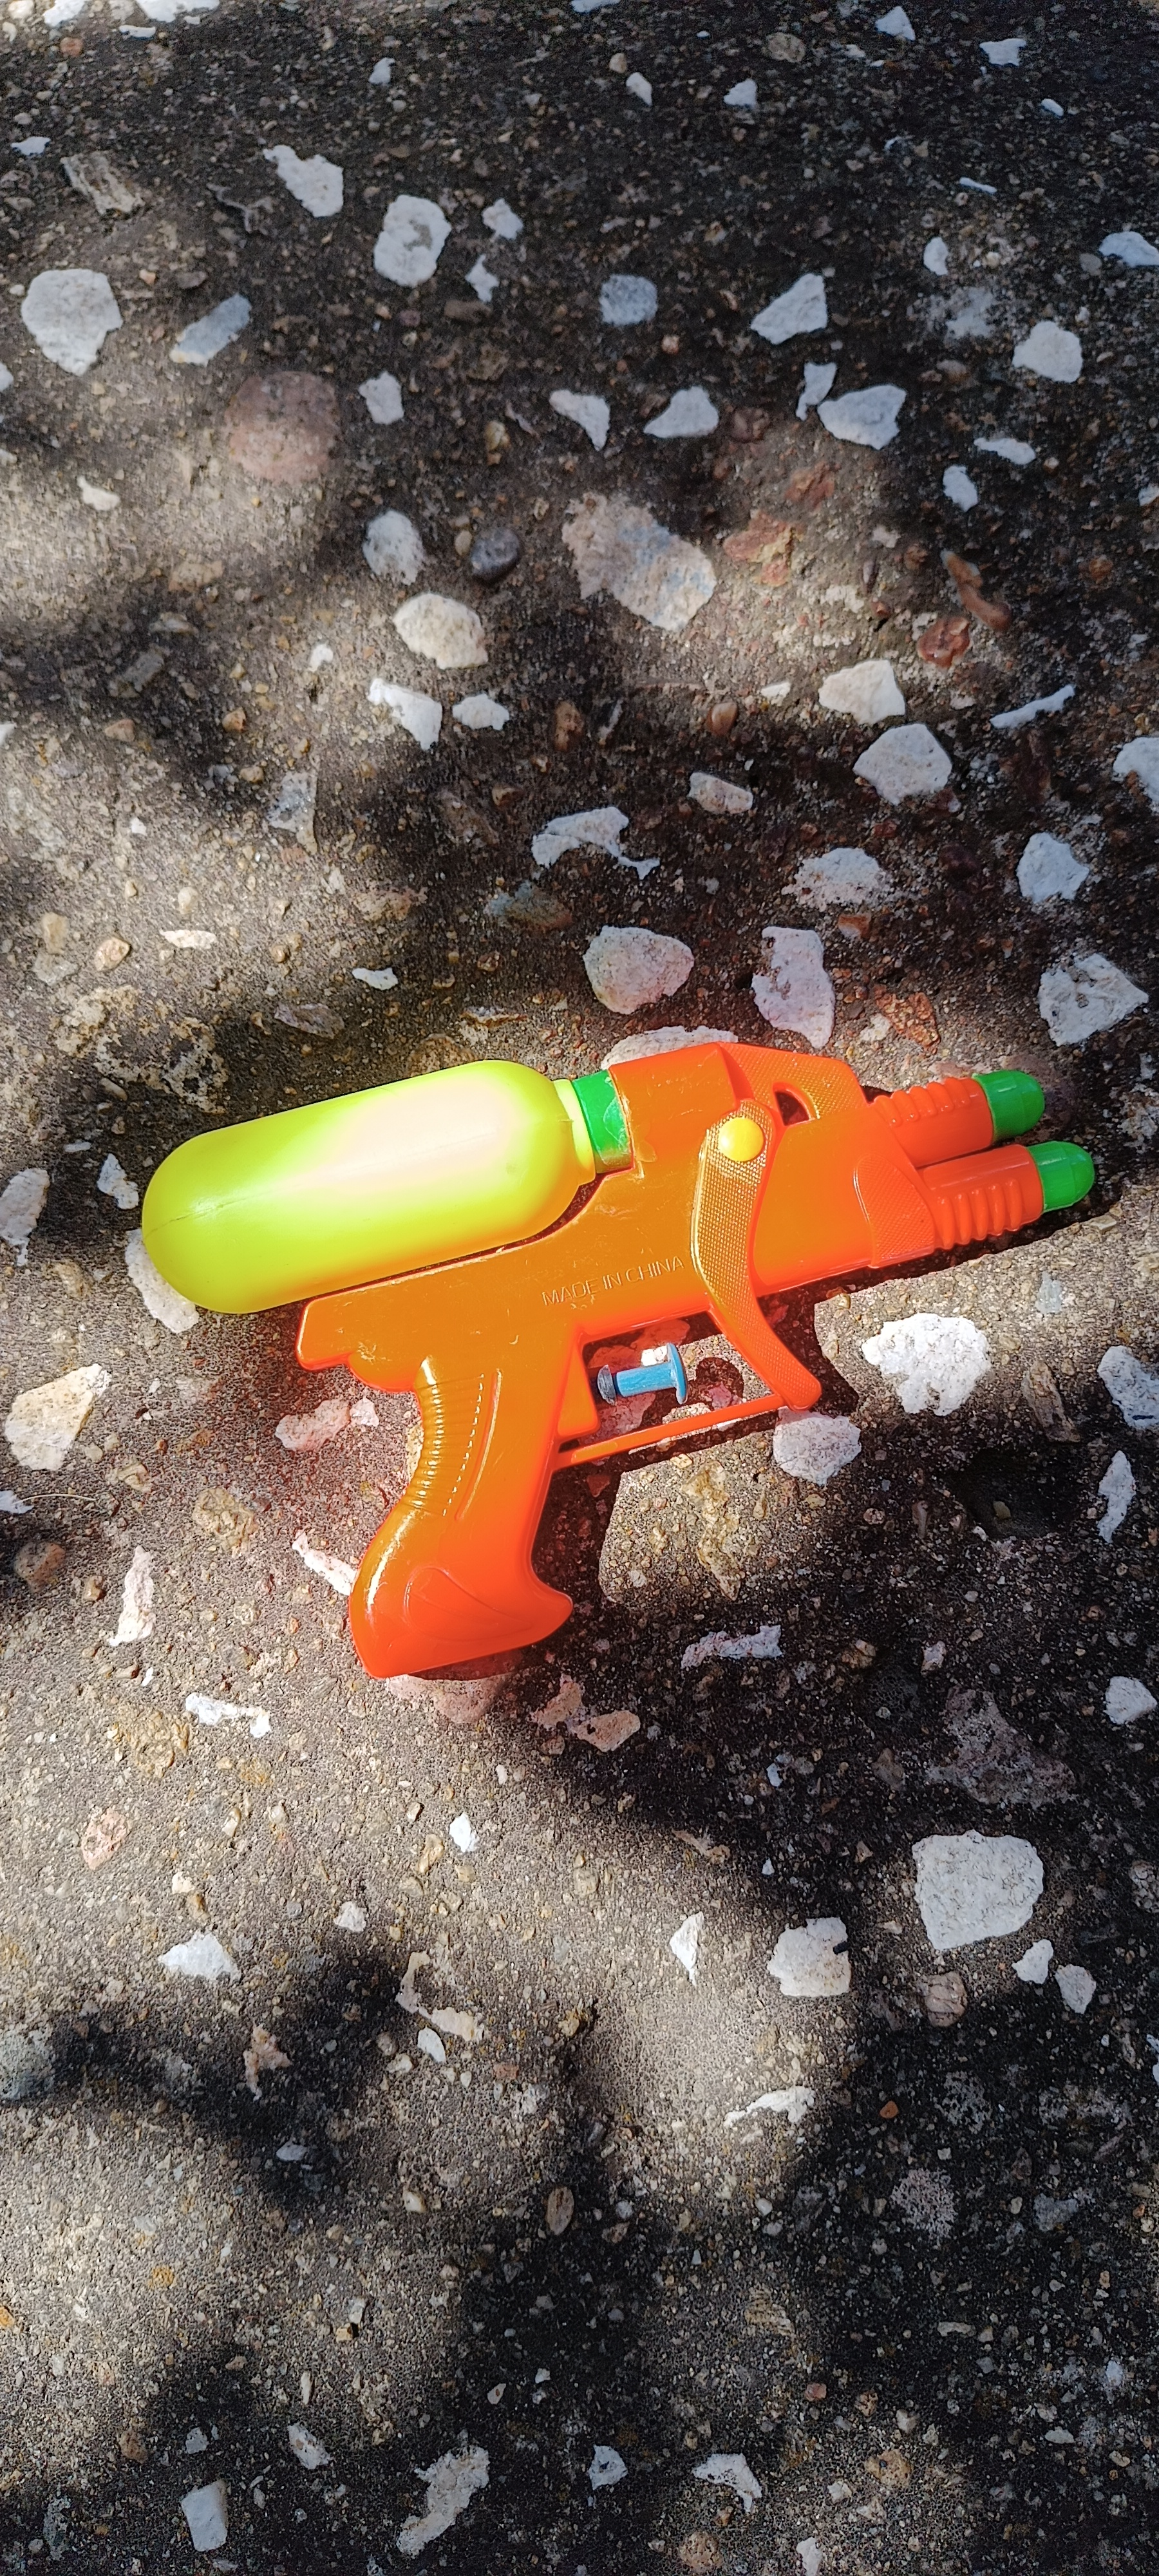Water Gun: (138, 1040, 1098, 1679)
